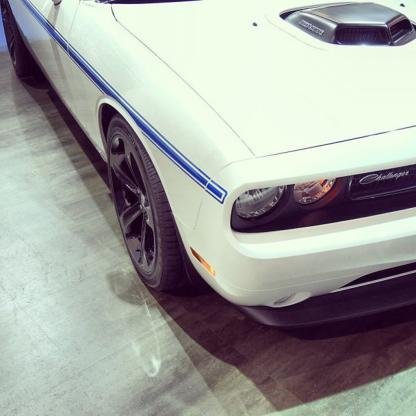Car: (53, 30, 407, 339)
